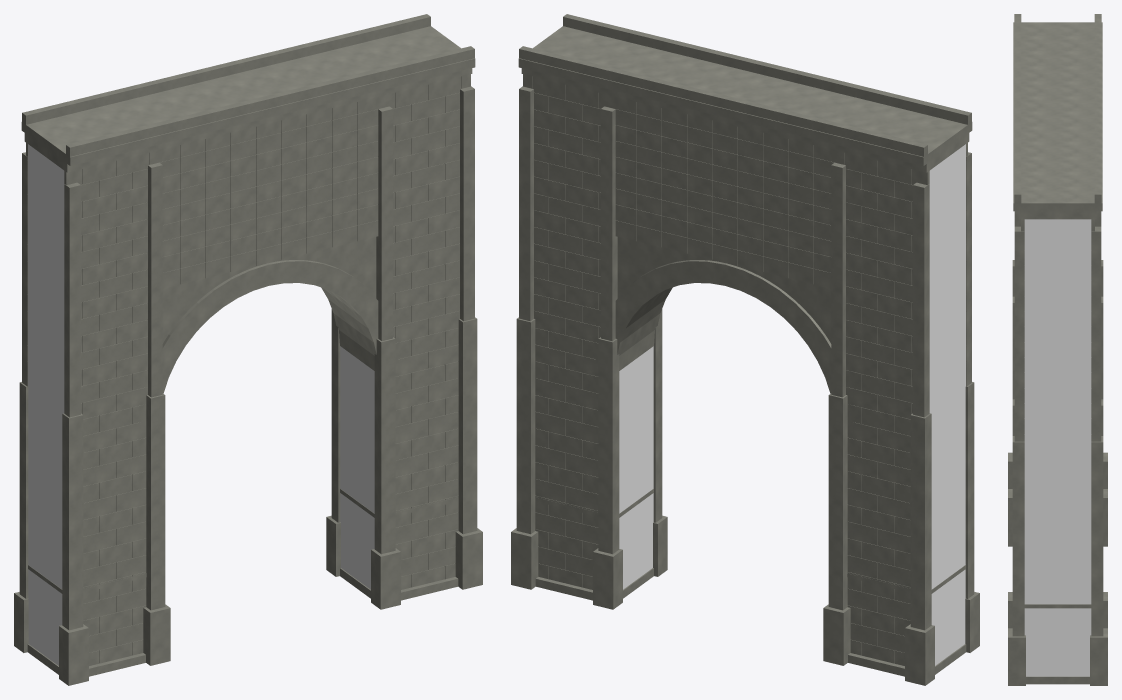
The model's file is GF2_Wall_Gateway_48x60_LOD1.fbx.
3 renders of one model, left to right at view 1: azimuth 30°, elevation 25°; view 2: azimuth 150°, elevation 25°; view 3: azimuth 270°, elevation 25°, orthographic. The views are drawn at different scales.
Parts seen in each view (by area): view 1: GF2_Wall_Gateway_48x60_LOD1; view 2: GF2_Wall_Gateway_48x60_LOD1; view 3: GF2_Wall_Gateway_48x60_LOD1.
Part boxes in pixels (x1,y1,x2,y2): GF2_Wall_Gateway_48x60_LOD1: (14,14,482,685); GF2_Wall_Gateway_48x60_LOD1: (511,14,979,685); GF2_Wall_Gateway_48x60_LOD1: (1008,14,1107,685).
Size of the model in its own units: 49.1 by 60.55 by 11.2.
